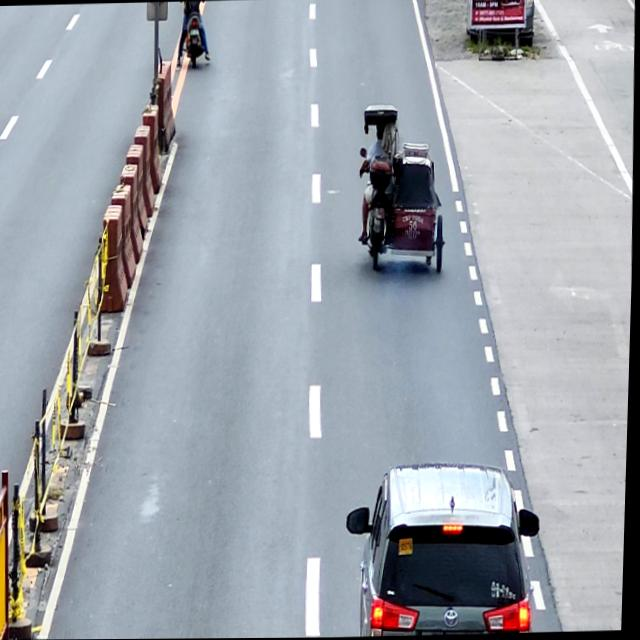Car: (345, 460, 546, 637)
License-Plate: (371, 208, 386, 221), (189, 28, 199, 36)
Motorcycle: (180, 1, 204, 69)
Tricycle: (358, 104, 451, 275)
